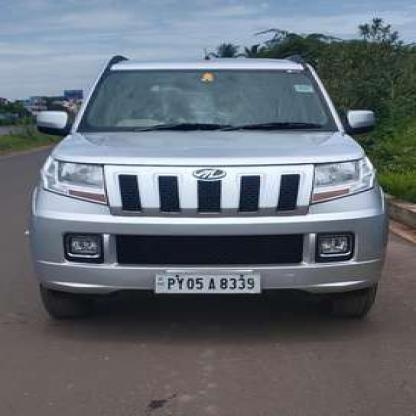license_plate: (153, 272, 258, 292)
